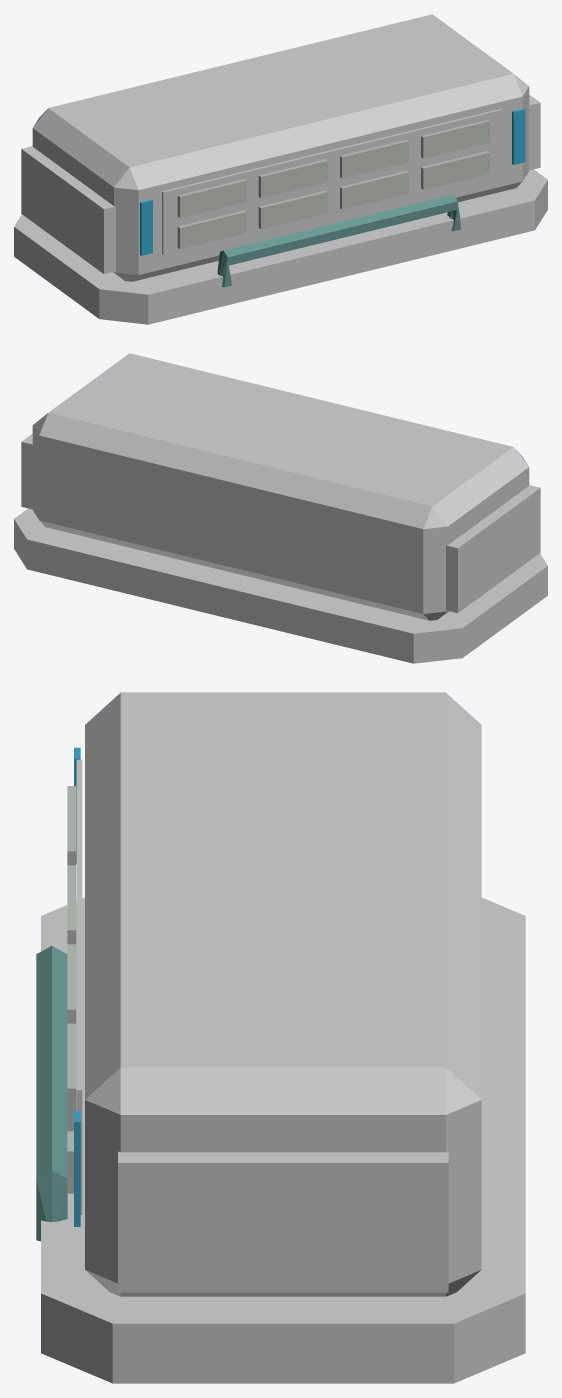
Rendered from gene_bank.obj.
The picture shows the model from 3 angles, top to bottom: view 1: azimuth 30°, elevation 25°; view 2: azimuth 150°, elevation 25°; view 3: azimuth 270°, elevation 25°; orthographic projection. The views are drawn at different scales.
Visible parts, largest first — view 1: gene_bank; view 2: gene_bank; view 3: gene_bank.
Boxes of the visible parts, box(x1,y1,x2,y2) form: gene_bank: box(14, 14, 547, 324); gene_bank: box(14, 353, 547, 663); gene_bank: box(36, 692, 525, 1383).
Size of the model in its own units: 1.88 by 0.57 by 0.8886.
